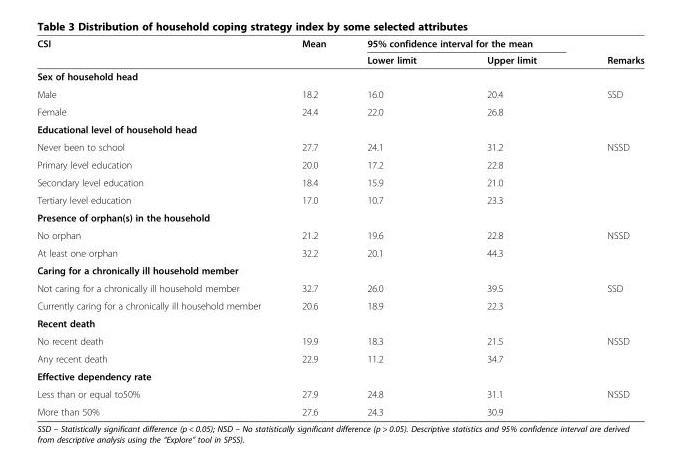table: (36, 37, 643, 416)
table column: (36, 37, 280, 416), (450, 37, 571, 416), (345, 37, 450, 416), (571, 37, 643, 416), (280, 37, 345, 416)
table column header: (36, 37, 643, 67)
table projected row header: (36, 67, 643, 85), (36, 208, 643, 226), (36, 261, 643, 279), (36, 120, 643, 137), (36, 314, 643, 331), (36, 367, 643, 384)
table row: (36, 67, 643, 85), (36, 102, 643, 120), (36, 137, 643, 155), (36, 155, 643, 173), (36, 190, 643, 208), (36, 208, 643, 226), (36, 243, 643, 261), (36, 261, 643, 279), (36, 296, 643, 314), (36, 331, 643, 349), (36, 349, 643, 367), (36, 384, 643, 402), (36, 85, 643, 102), (36, 120, 643, 137), (36, 173, 643, 190), (36, 226, 643, 243), (36, 279, 643, 296), (36, 314, 643, 331), (36, 367, 643, 384), (36, 51, 643, 67), (36, 37, 643, 51), (36, 402, 643, 416)
table spanning cell: (36, 37, 280, 67), (345, 37, 571, 51), (571, 37, 643, 67), (280, 37, 345, 67)
